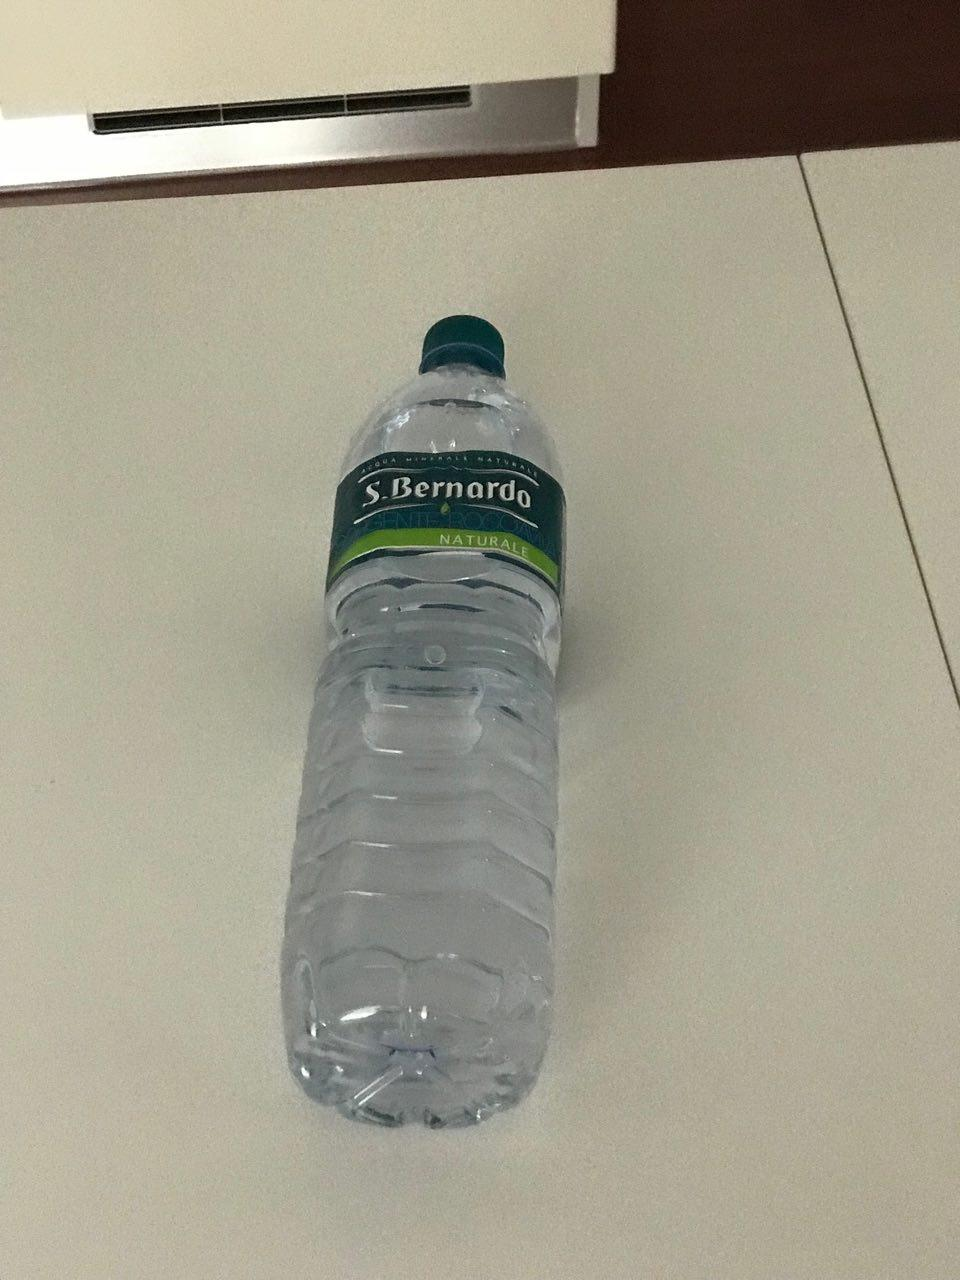san_bernardo: (277, 312, 567, 1131)
